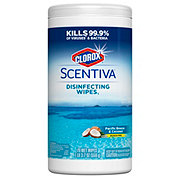Wipes: (44, 1, 137, 179)
